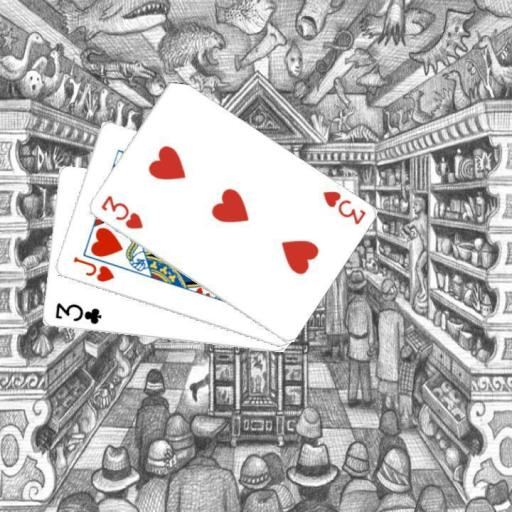card-corner: (319, 188, 367, 227), (98, 192, 144, 231), (70, 254, 116, 284), (52, 300, 102, 326)
